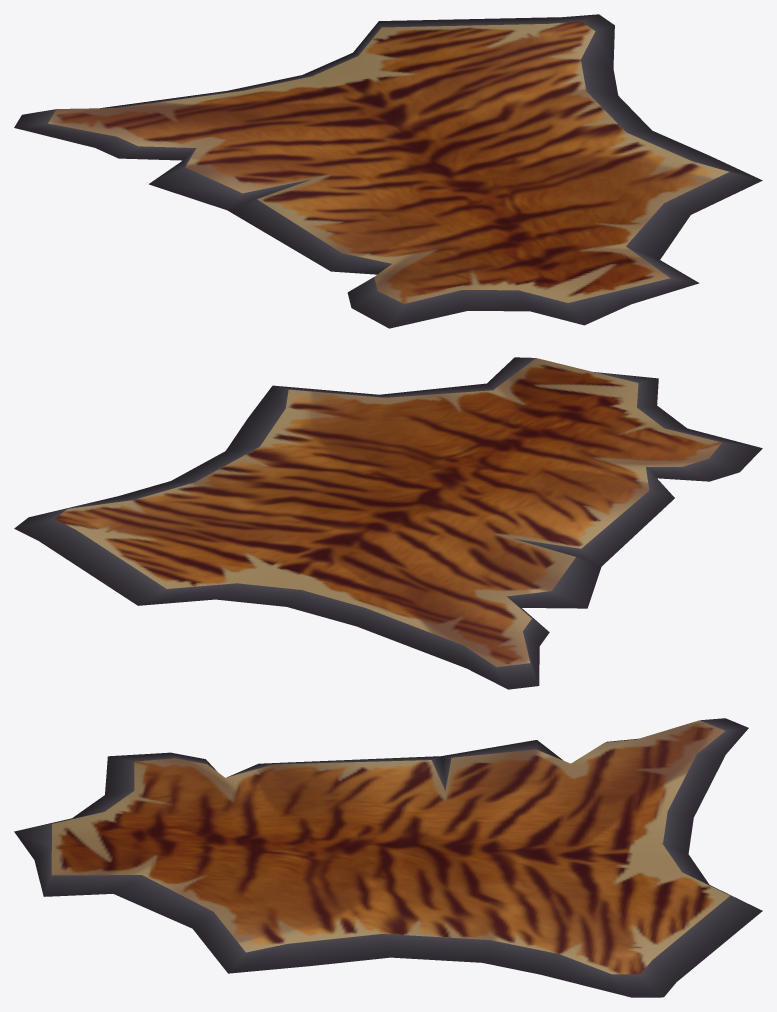
The model's file is Leather_Bed_1D.fbx.
The picture shows the model from 3 angles, top to bottom: view 1: azimuth 30°, elevation 25°; view 2: azimuth 150°, elevation 25°; view 3: azimuth 270°, elevation 25°; orthographic projection. The views are drawn at different scales.
Parts seen in each view (by area): view 1: Leather_Bed_1D; view 2: Leather_Bed_1D; view 3: Leather_Bed_1D.
Boxes of the visible parts, x1,y1,x2,y2 form: Leather_Bed_1D: [14, 14, 762, 328]; Leather_Bed_1D: [14, 357, 762, 689]; Leather_Bed_1D: [14, 718, 762, 997].
Bounding box in the file's own units: 1.72 × 0.0248 × 1.94.
